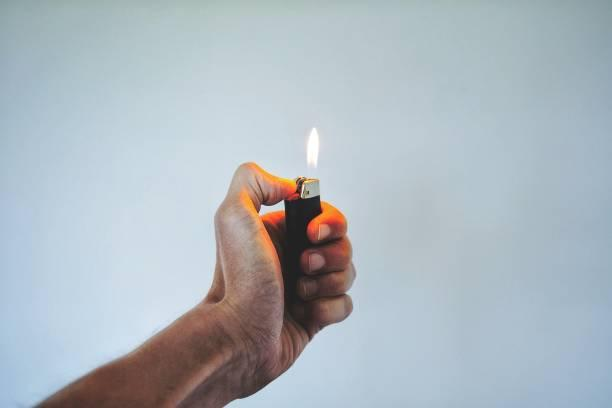Fire: (304, 120, 324, 172)
